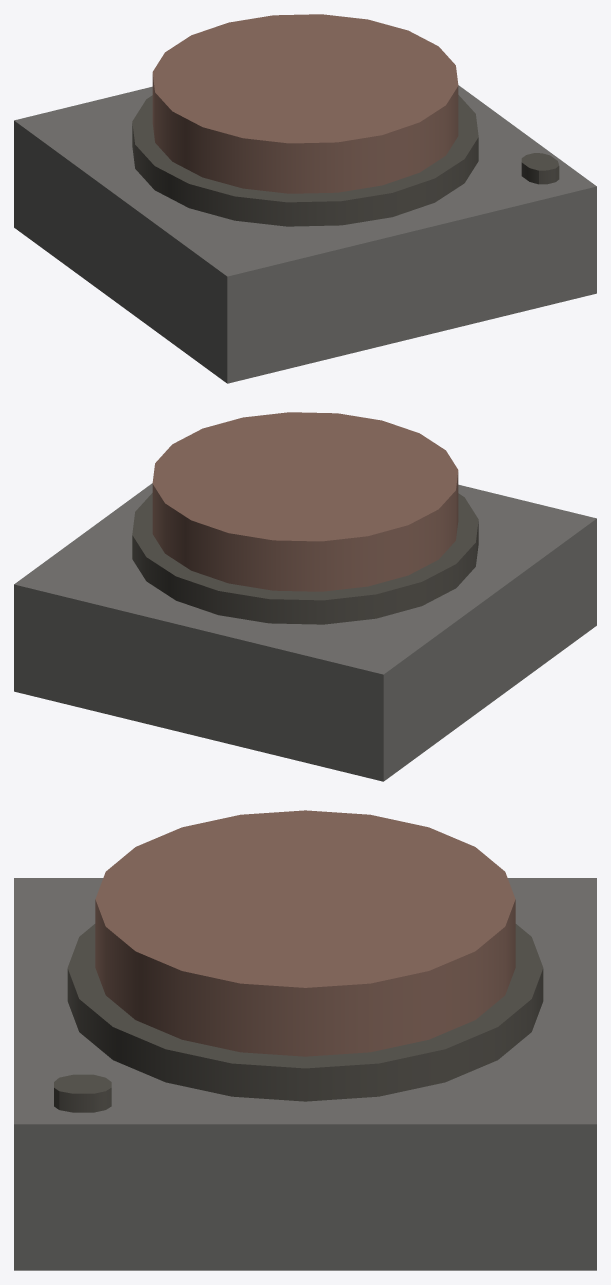
The model's file is redbutton.fbx.
The picture shows the model from 3 angles, top to bottom: view 1: azimuth 30°, elevation 25°; view 2: azimuth 150°, elevation 25°; view 3: azimuth 270°, elevation 25°; orthographic projection. The views are drawn at different scales.
Parts seen in each view (by area): view 1: redbutton; view 2: redbutton; view 3: redbutton.
Boxes of the visible parts, bbox=[...] form: redbutton: bbox=[14, 14, 596, 383]; redbutton: bbox=[14, 412, 596, 781]; redbutton: bbox=[14, 810, 596, 1270].
Size of the model in its own units: 1.8 by 0.8441 by 1.8.
